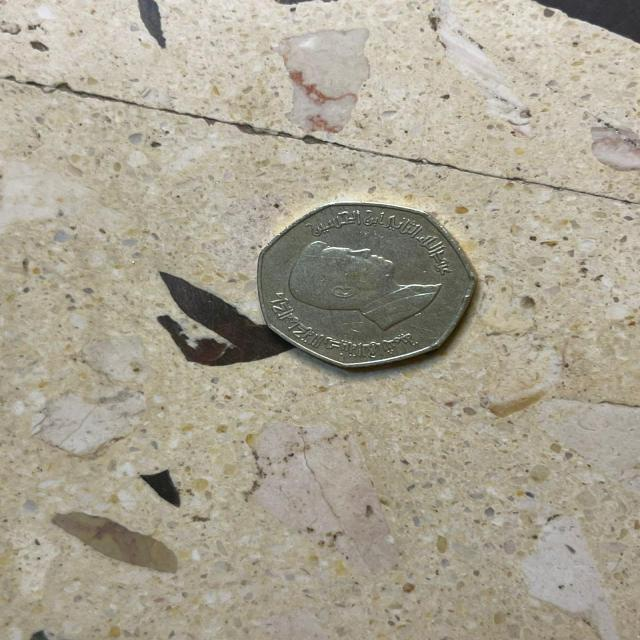25-coins: (256, 200, 476, 369)
